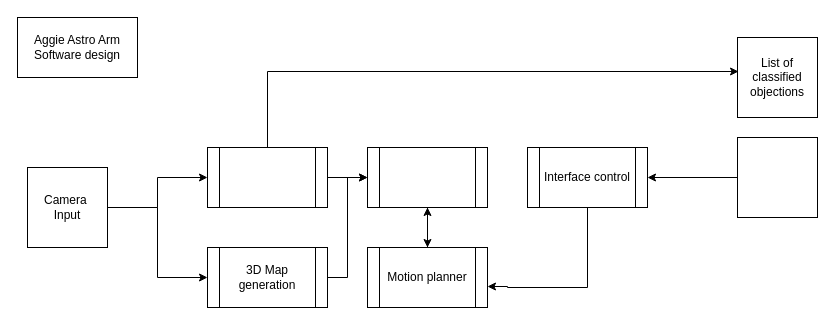
This 835x325 diagram has some shape labels left out. The shapes that lost their labels are listed below. From the top down, each one's centre as x and y in pixels, then its label:
At point 267,177: "YOLO Image Identification".
At point 427,177: "Probabilistic Mab Generation".
At point 777,177: "User input".
